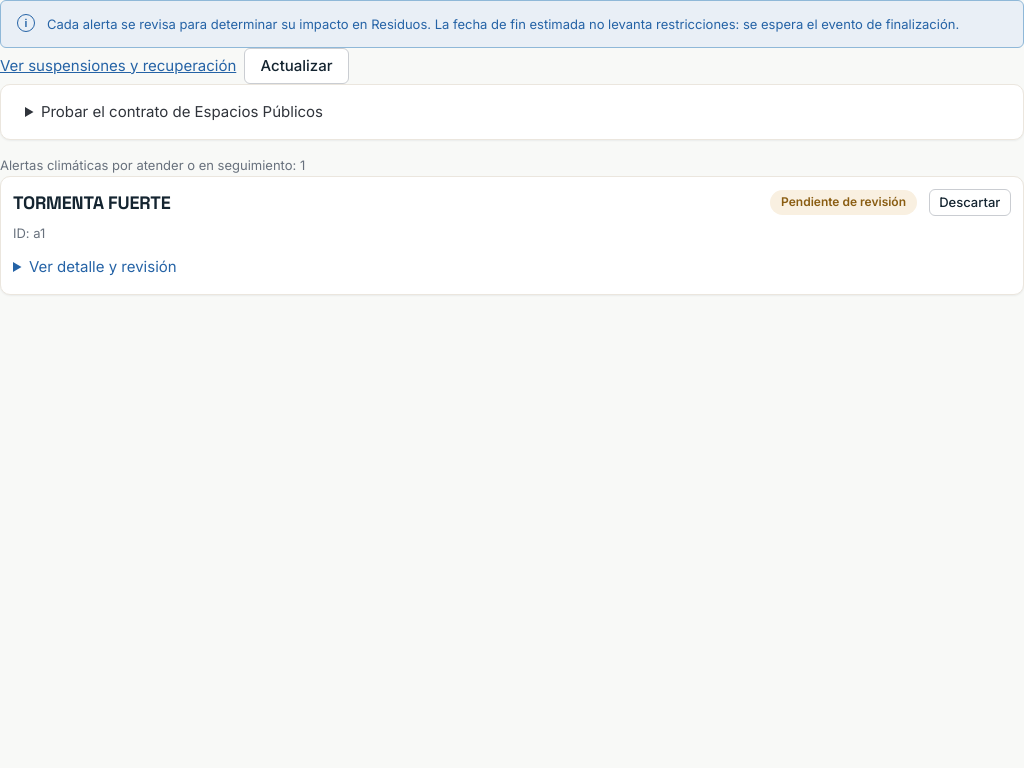
Scenario: Eventos climaticos › permite cancelar y conserva el motivo ante errores de descarte para reintentar
Click the button "Descartar" at x=970, y=202, box [929,189,1011,216]
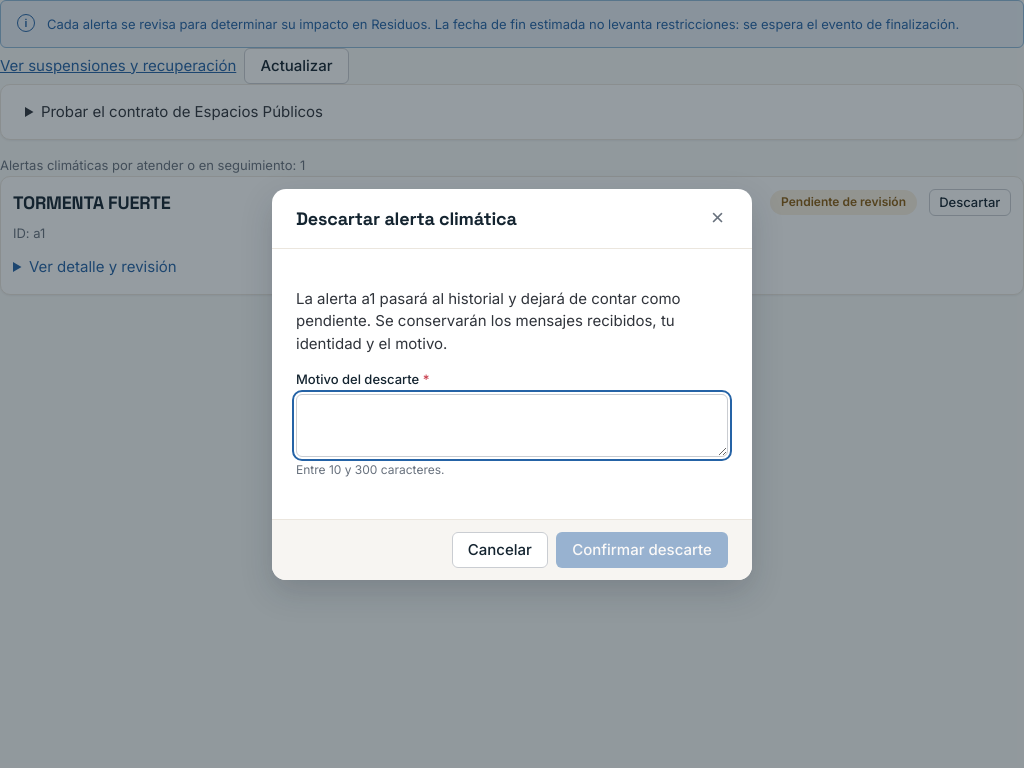
Click the button "Cancelar" at x=500, y=550, box [452,532,548,568]
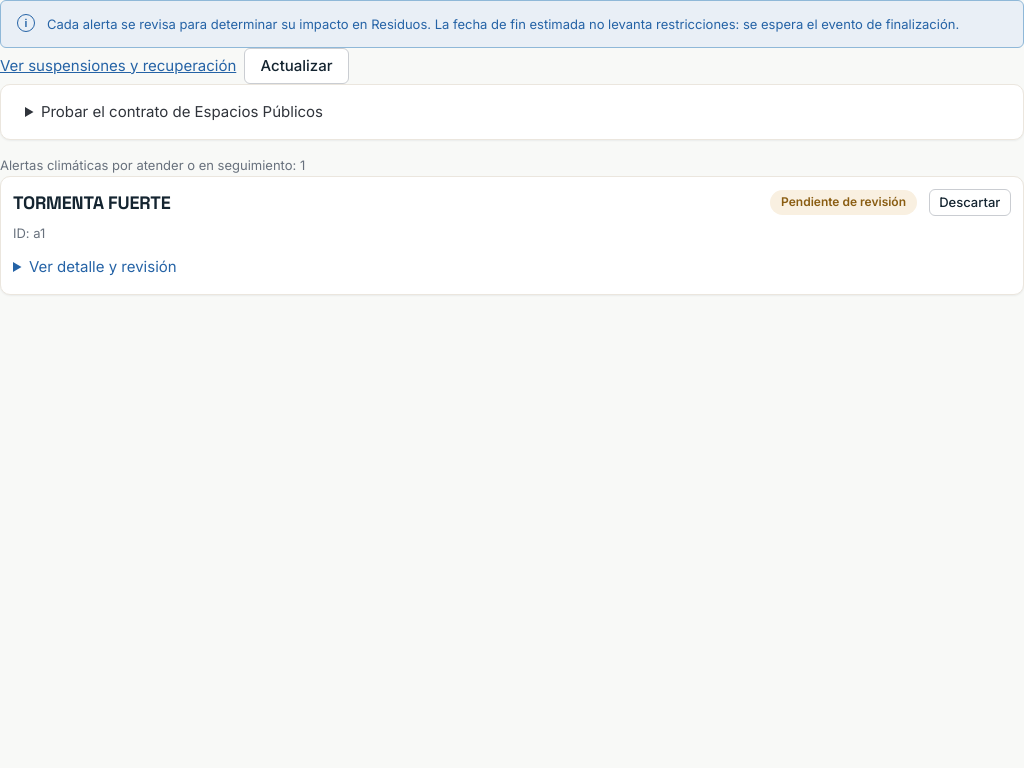
Click the button "Descartar" at x=970, y=202, box [929,189,1011,216]
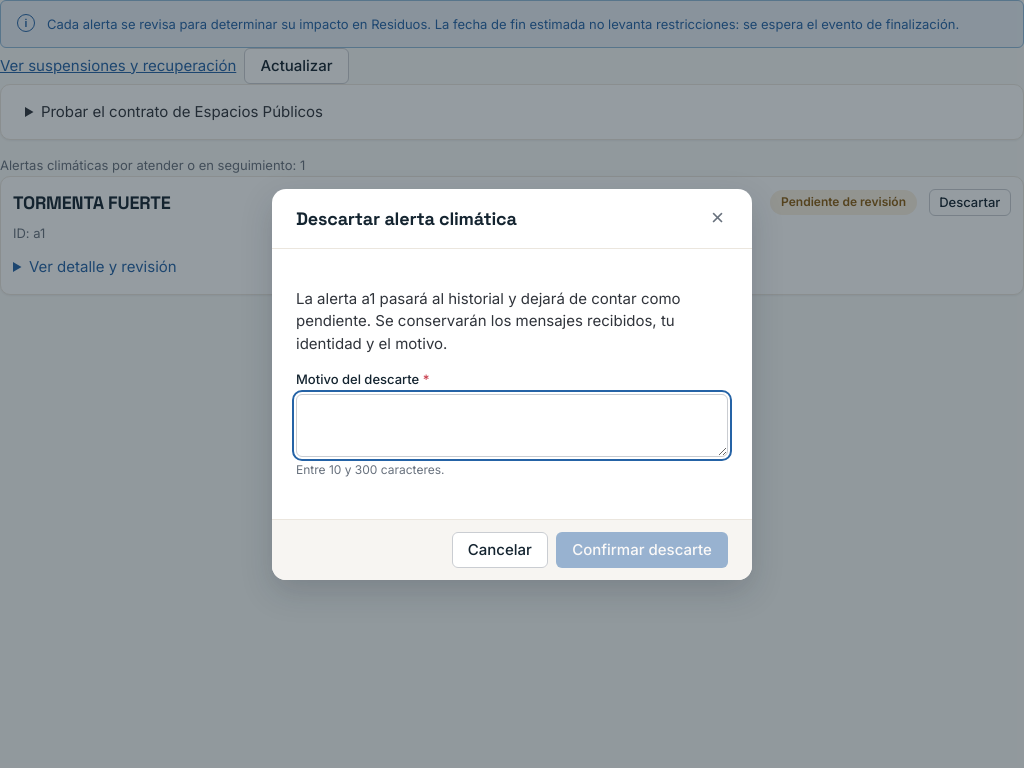
Type "Ensayo concluido en la revisión" into the text box labelled "Motivo del descarte *" at x=512, y=425, box [296,394,728,456]
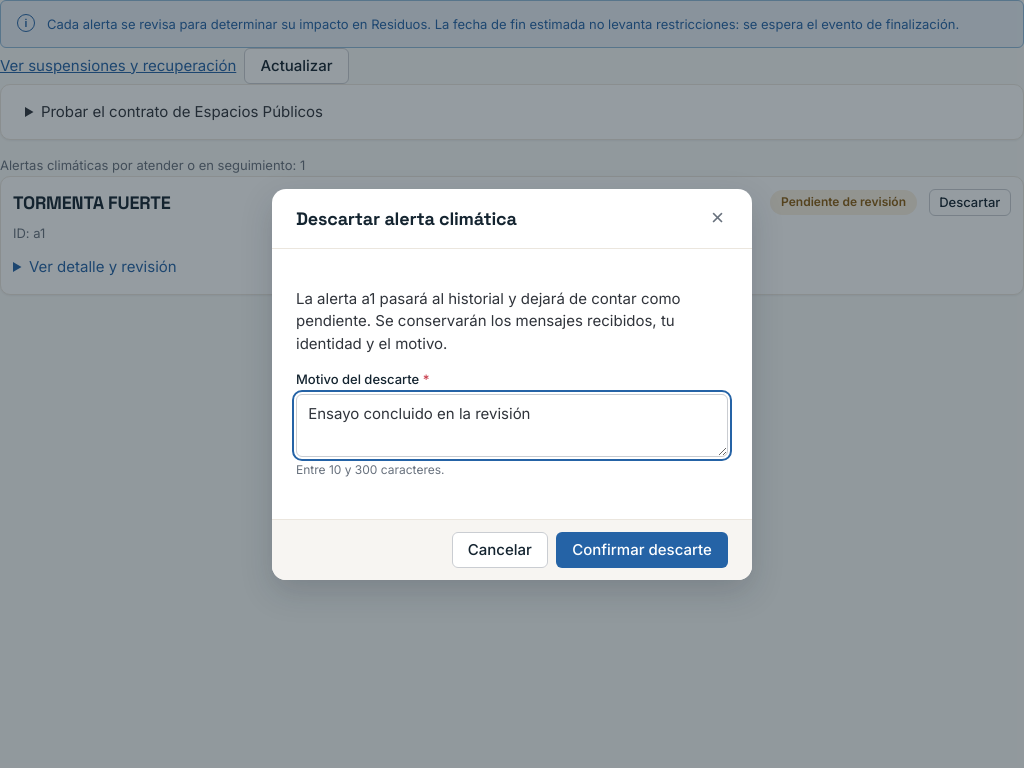
Click the button "Confirmar descarte" at x=642, y=550, box [556,532,728,568]
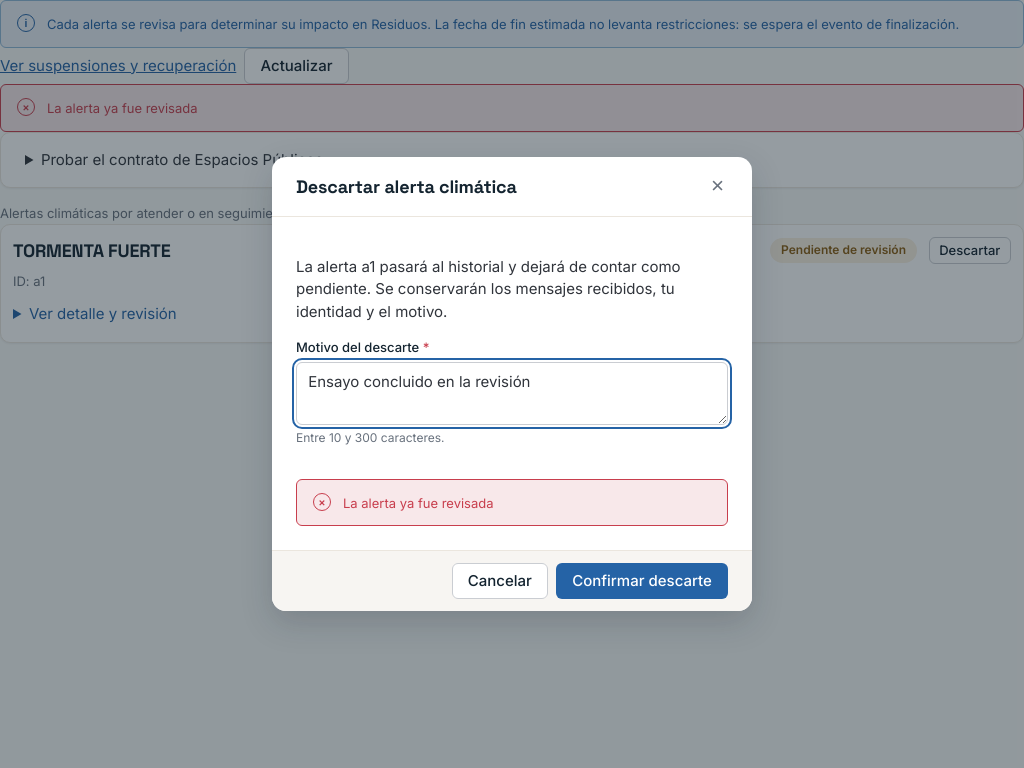
Check: the text "La alerta ya fue revisada" is shown, box [343,494,494,513]
Click the button "Confirmar descarte" at x=642, y=581, box [556,563,728,599]
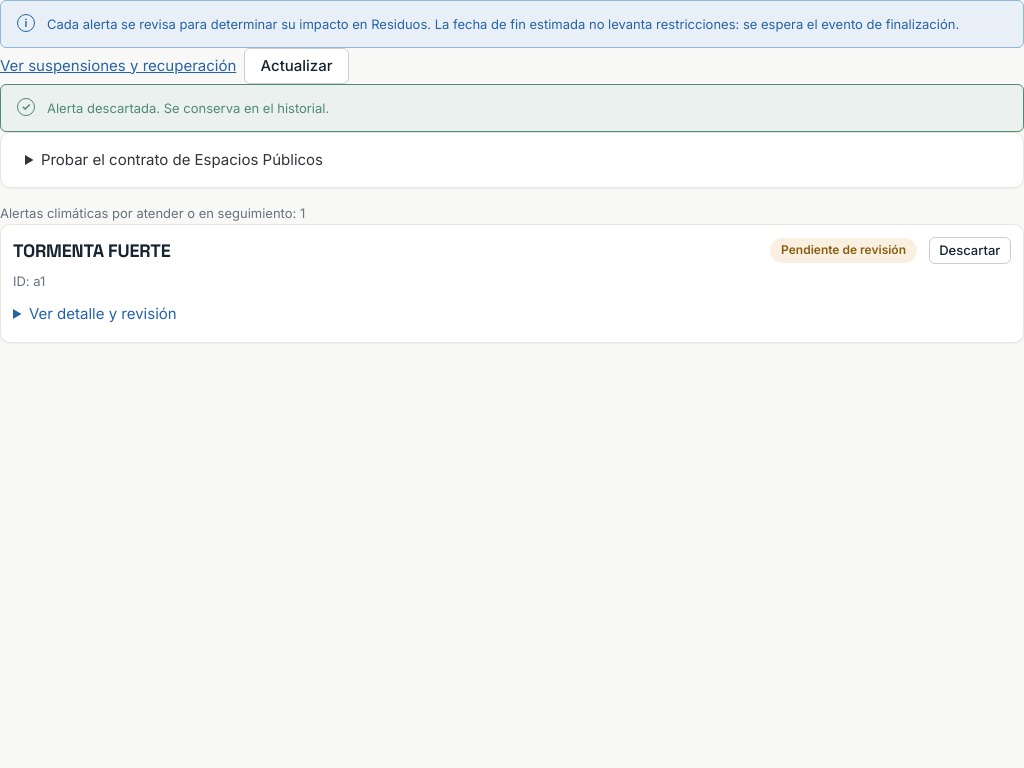
Check: the dialog is gone
